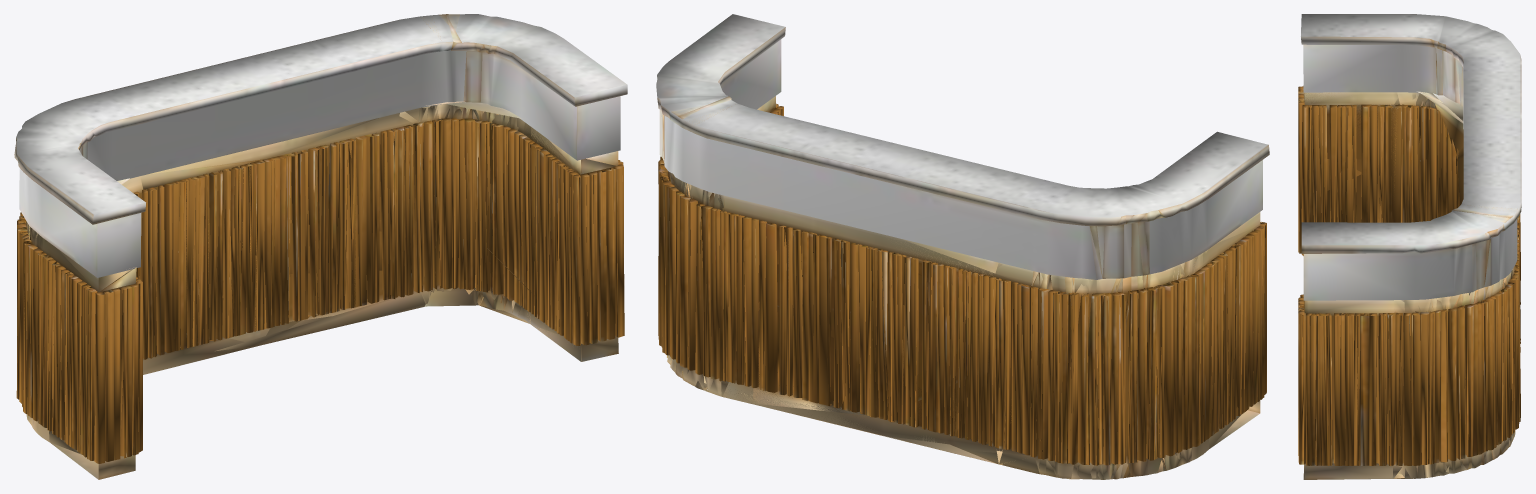
The model's file is reception_desk.glb.
The picture shows the model from 3 angles, left to right: view 1: azimuth 30°, elevation 25°; view 2: azimuth 150°, elevation 25°; view 3: azimuth 270°, elevation 25°; orthographic projection. The views are drawn at different scales.
Parts seen in each view (by area): view 1: prop; view 2: prop; view 3: prop.
Part boxes in pixels (x1,y1,x2,y2): prop: (14, 14, 627, 479); prop: (656, 14, 1269, 479); prop: (1298, 14, 1521, 479).
Bounding box in the file's own units: 3 × 1.44 × 1.22.
Materials: 1 (1 with a texture image).
